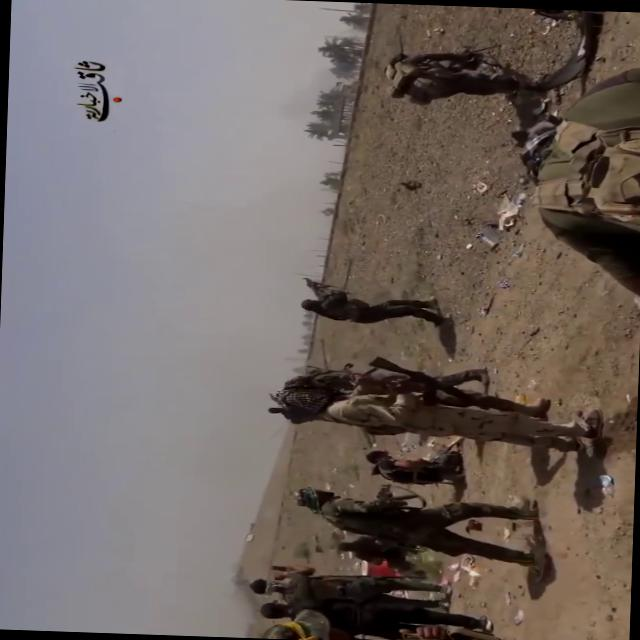long weapon: (372, 347, 508, 413), (364, 476, 425, 512), (294, 270, 332, 298)
